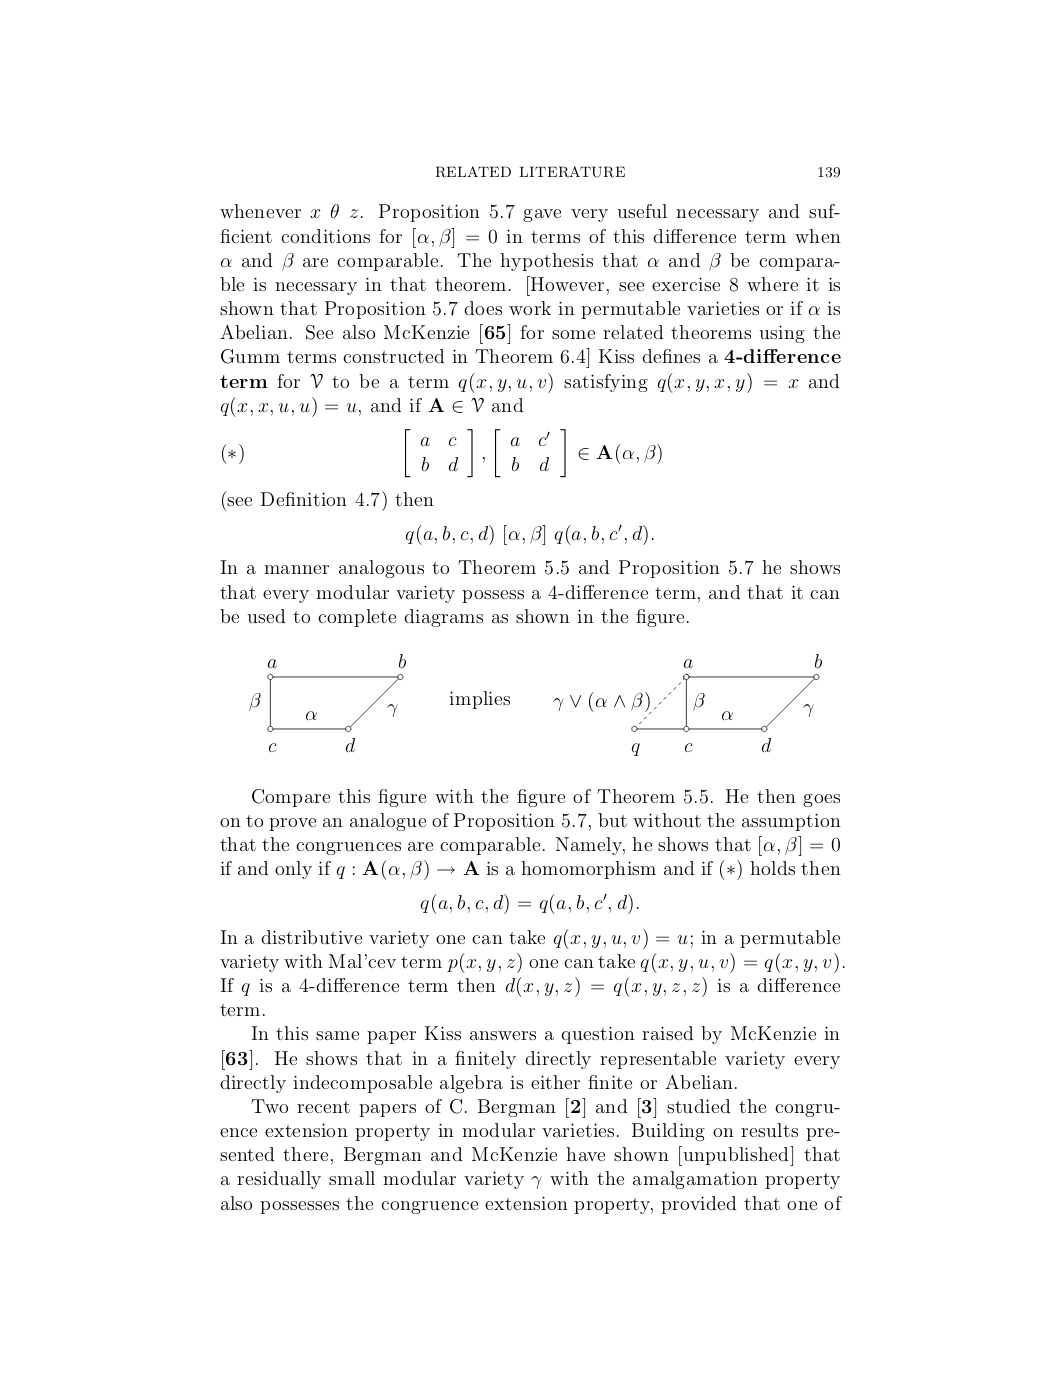figure: (249, 654, 821, 754)
formula: (222, 428, 661, 478), (405, 523, 653, 545), (420, 892, 637, 914)
